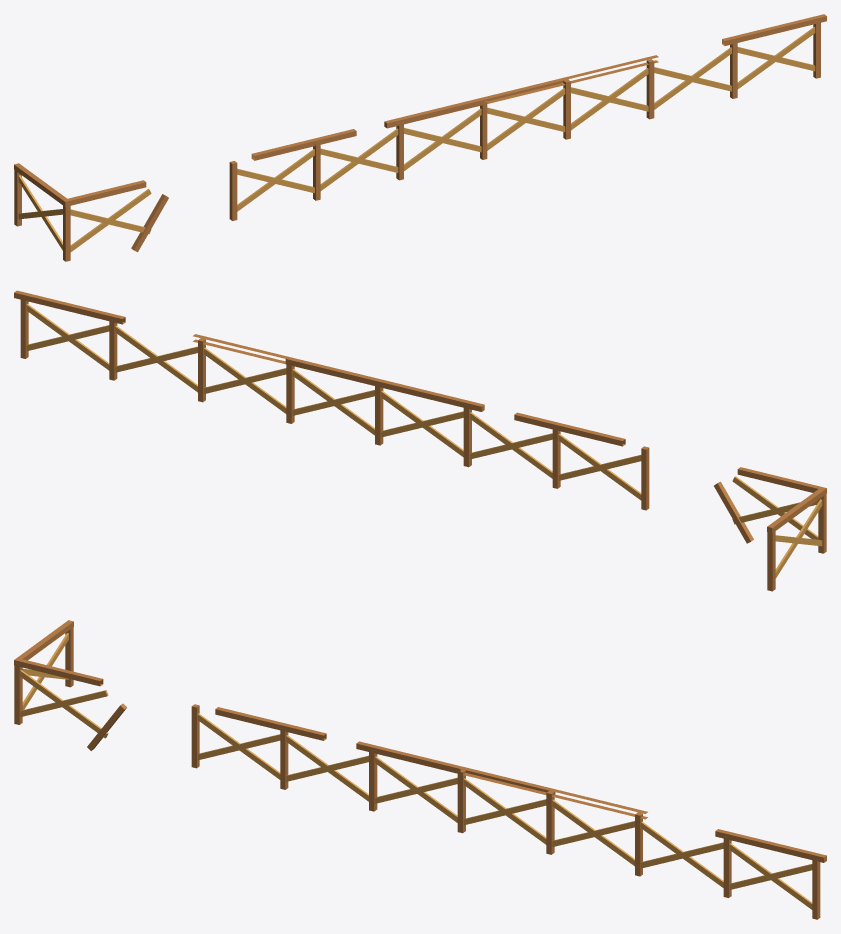
The model's file is 05 Broken_Fence.FBX.
The picture shows the model from 3 angles, top to bottom: view 1: azimuth 30°, elevation 25°; view 2: azimuth 150°, elevation 25°; view 3: azimuth 330°, elevation 25°; orthographic projection. The views are drawn at different scales.
Visible parts, largest first — view 1: Wooden_fence_1; view 2: Wooden_fence_1; view 3: Wooden_fence_1.
Part boxes in pixels (x1,y1,x2,y2): Wooden_fence_1: [14, 14, 826, 261]; Wooden_fence_1: [14, 290, 826, 591]; Wooden_fence_1: [14, 620, 826, 919].
Bounding box in the file's own units: 7864 × 671 × 918.
